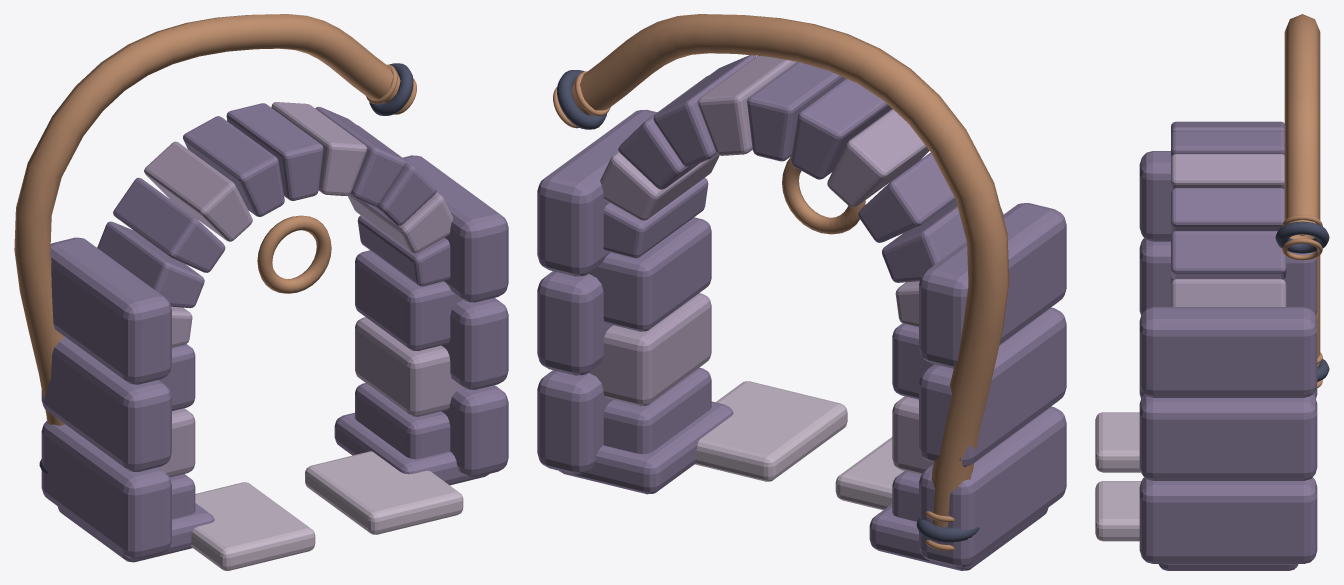
The model's file is inferno_decor_a.glb.
The picture shows the model from 3 angles, left to right: view 1: azimuth 30°, elevation 25°; view 2: azimuth 150°, elevation 25°; view 3: azimuth 270°, elevation 25°; orthographic projection. The views are drawn at different scales.
Parts seen in each view (by area): view 1: Batched V2 inferno stone, Batched V2 inferno copper, Batched V2 inferno stone_light, Batched V2 inferno ground, Batched V2 inferno dark; view 2: Batched V2 inferno stone, Batched V2 inferno copper, Batched V2 inferno stone_light, Batched V2 inferno ground, Batched V2 inferno dark; view 3: Batched V2 inferno stone, Batched V2 inferno copper, Batched V2 inferno stone_light, Batched V2 inferno ground, Batched V2 inferno dark.
Boxes of the visible parts, left/top/right/bottom form: Batched V2 inferno stone: left=41, top=103, right=508, bottom=562; Batched V2 inferno copper: left=14, top=14, right=416, bottom=425; Batched V2 inferno stone_light: left=144, top=102, right=463, bottom=477; Batched V2 inferno ground: left=191, top=451, right=463, bottom=570; Batched V2 inferno dark: left=39, top=63, right=413, bottom=473; Batched V2 inferno stone: left=537, top=55, right=1066, bottom=570; Batched V2 inferno copper: left=553, top=14, right=1009, bottom=550; Batched V2 inferno stone_light: left=588, top=56, right=933, bottom=474; Batched V2 inferno ground: left=695, top=381, right=904, bottom=510; Batched V2 inferno dark: left=557, top=70, right=979, bottom=542; Batched V2 inferno stone: left=1139, top=121, right=1317, bottom=570; Batched V2 inferno copper: left=1282, top=14, right=1322, bottom=388; Batched V2 inferno stone_light: left=1171, top=121, right=1286, bottom=306; Batched V2 inferno ground: left=1095, top=412, right=1141, bottom=541; Batched V2 inferno dark: left=1275, top=221, right=1329, bottom=381.
Size of the model in its own units: 3.06 by 3.23 by 1.58.
